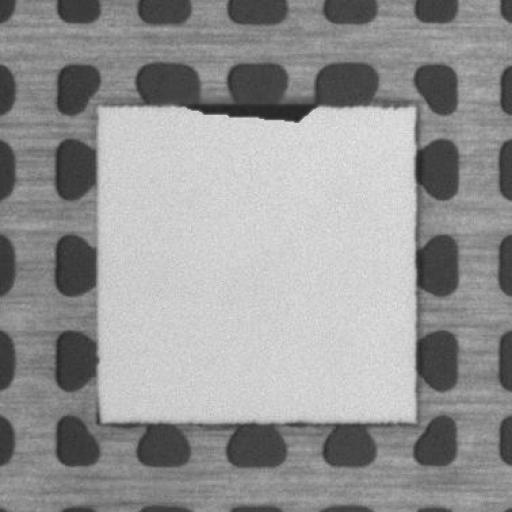DIE_BROKEN: (174, 98, 320, 126)
